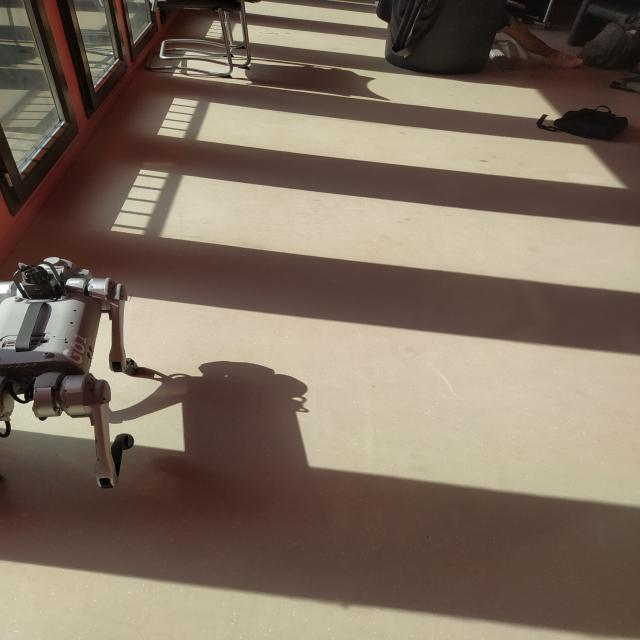unitree-go1-robot: (5, 251, 184, 506)
